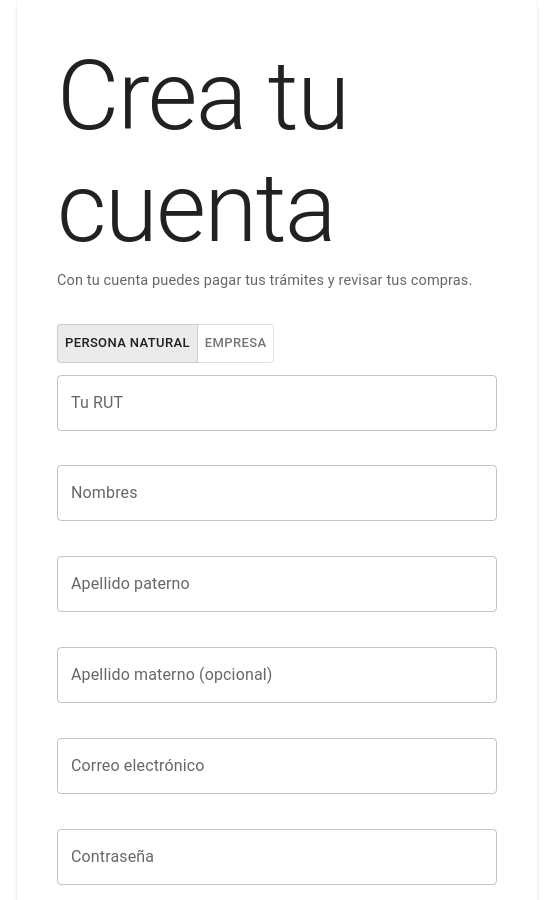
Test: Registro › puts the server's password complaint on the field
In the field labelled "Tu RUT": {"x": 277, "y": 403} left=57, top=375, right=497, bottom=431, type "11.111.111-1"
In the field labelled "Nombres": {"x": 277, "y": 494} left=57, top=466, right=497, bottom=522, type "Camila"
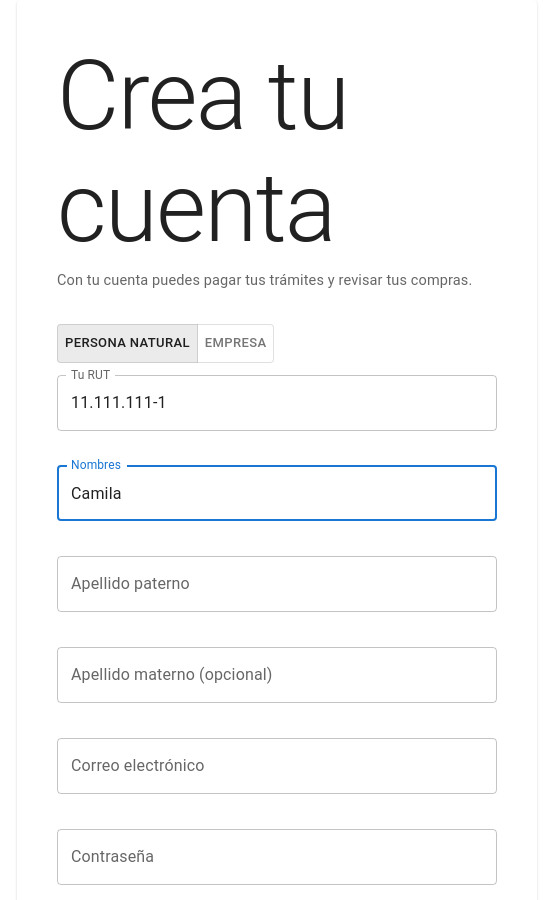
In the field labelled "Apellido paterno": {"x": 277, "y": 584} left=57, top=556, right=497, bottom=612, type "Soto"
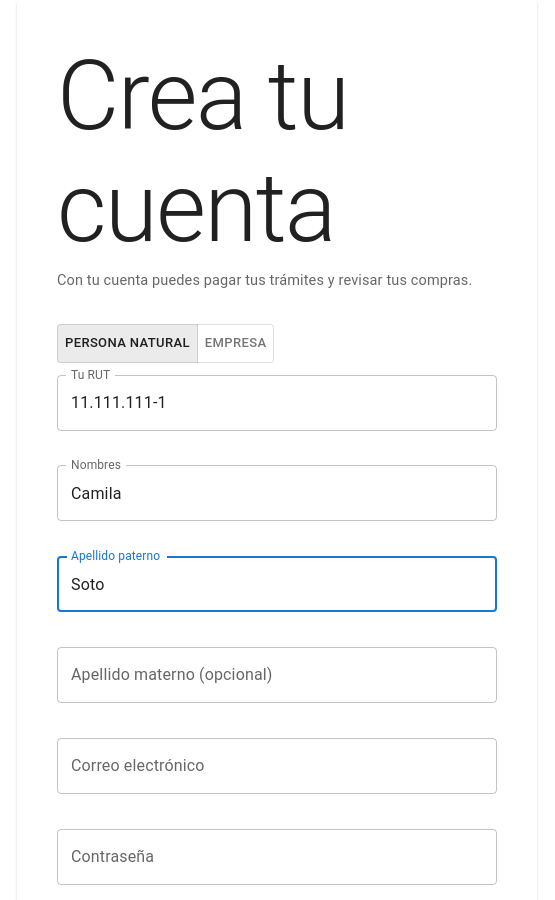
In the field labelled "Correo electrónico": {"x": 277, "y": 766} left=57, top=738, right=497, bottom=794, type "camila.soto@example.test"
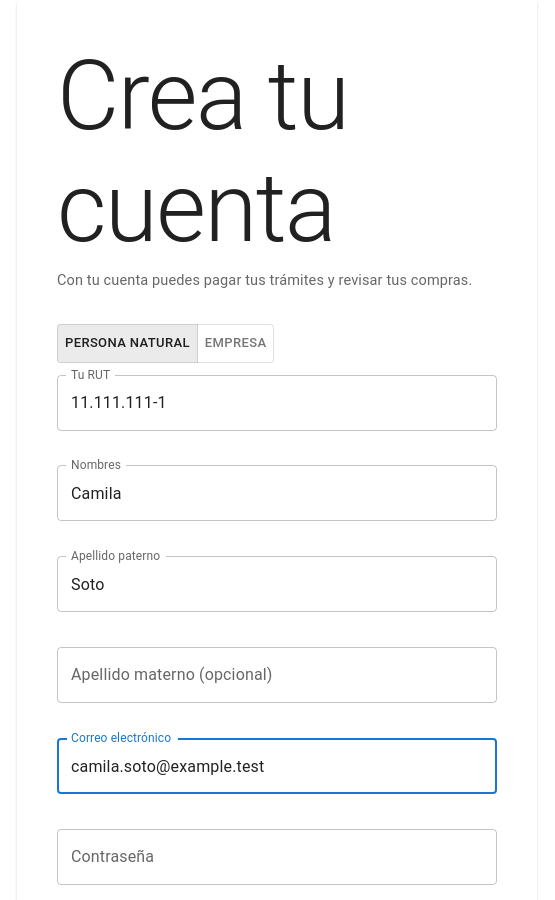
In the password field labelled "Contraseña": {"x": 277, "y": 857} left=57, top=829, right=497, bottom=885, type "clave-segura-1"
(page scrolled)
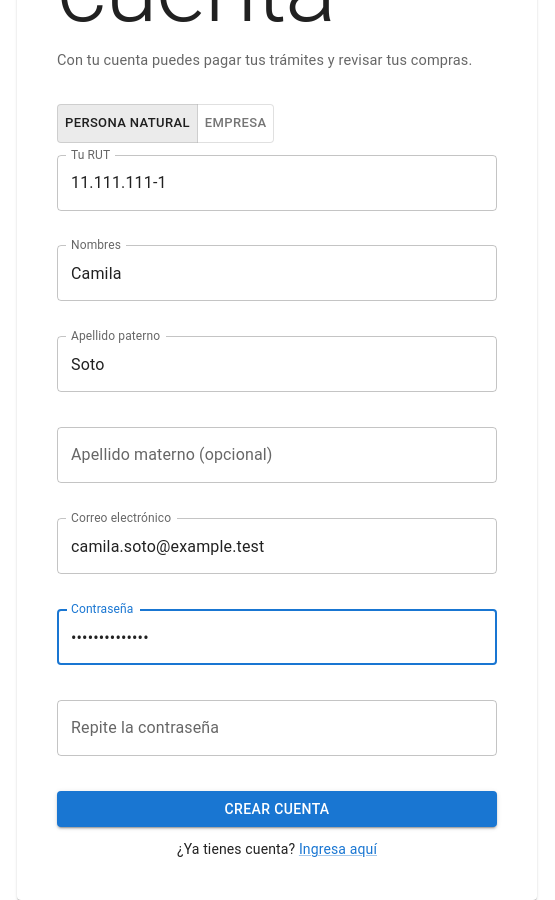
In the password field labelled "Repite la contraseña": {"x": 277, "y": 728} left=57, top=700, right=497, bottom=756, type "clave-segura-1"
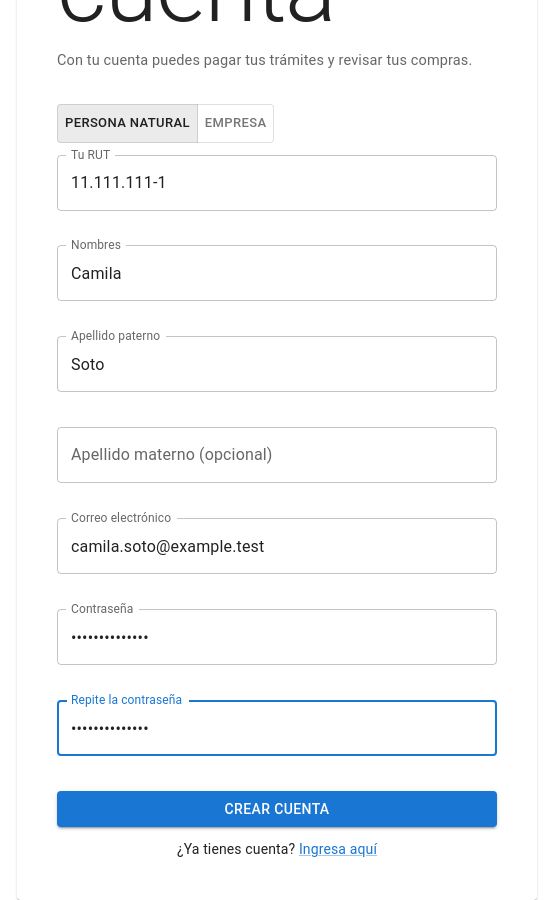
Click the button "Crear cuenta": {"x": 277, "y": 809} left=57, top=791, right=497, bottom=827
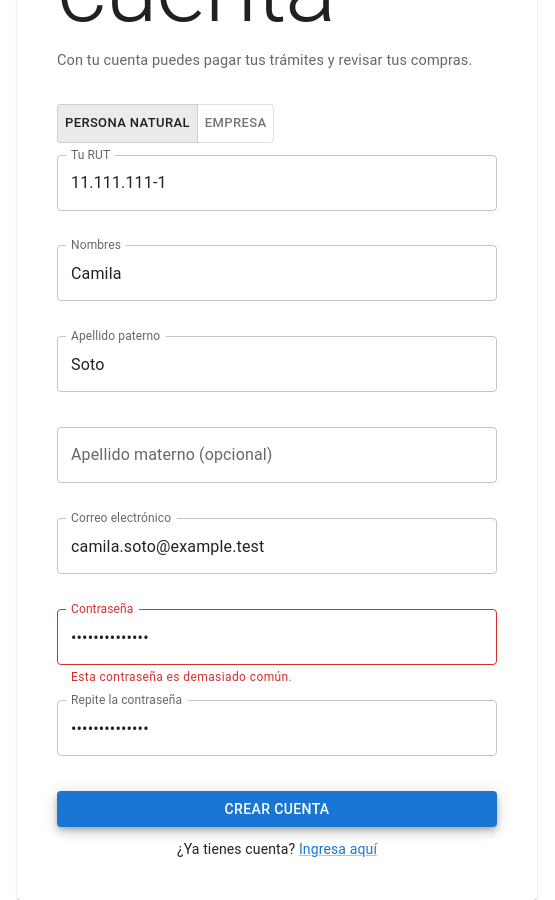
Now the text "Esta contraseña es demasiado común." is shown, box left=71, top=670, right=292, bottom=684
